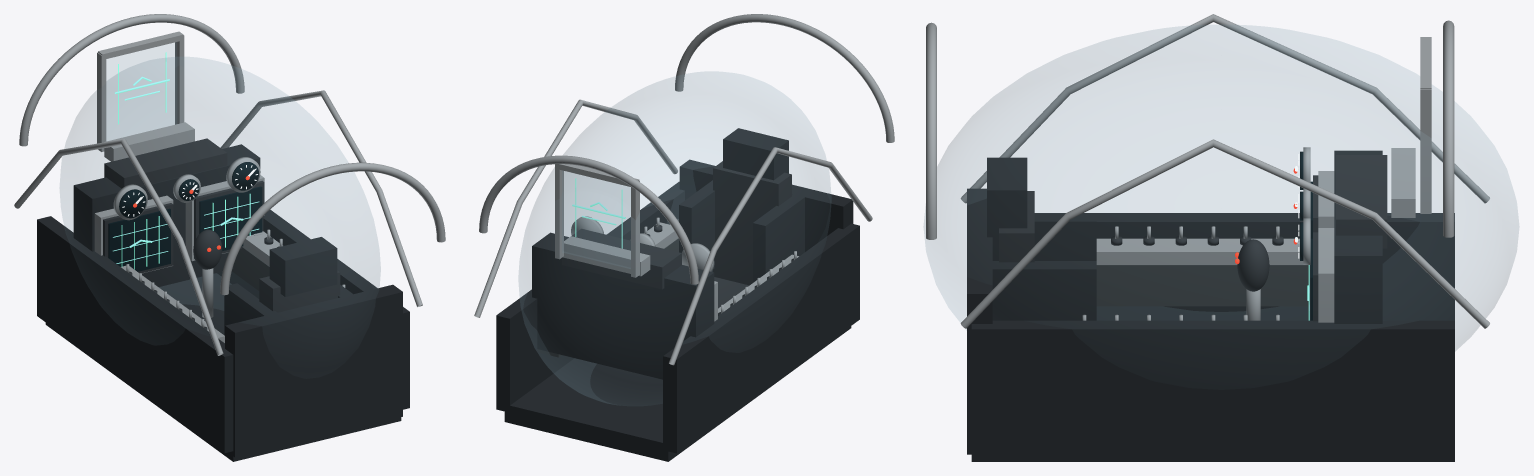
File: cockpit.glb
3 views of the same model, side by side, from view 1: azimuth 30°, elevation 25°; view 2: azimuth 150°, elevation 25°; view 3: azimuth 270°, elevation 25° (orthographic). The views are drawn at different scales.
Parts seen in each view (by area): view 1: F15 FULL TRANSPARENT CANOPY, Cockpit Rear Bulkhead, Connected Cockpit Side Wall, HUD Transparent Plate, Integrated Main Instrument Panel, Upper Instrument Housing, Ejection Seat Headrest, LEFT MULTIFUNCTION DISPLAY Glass, Canopy Structural Rim, Canopy Structural Rim.001, F15 Cockpit Tub Floor, Connected Cockpit Side Wall.001 (+20 smaller); view 2: F15 FULL TRANSPARENT CANOPY, Connected Cockpit Side Wall, Integrated Main Instrument Panel, F15 Cockpit Tub Floor, Connected Cockpit Side Wall.001, HUD Transparent Plate, Ejection Seat Back, Seat Side Support, Cockpit Rear Bulkhead, Canopy Structural Rim.001, Canopy Structural Rim, Ejection Seat Headrest (+12 smaller); view 3: F15 FULL TRANSPARENT CANOPY, Connected Cockpit Side Wall.001, Connected Cockpit Side Wall, Cockpit Side Console, Seat Side Support.001, Canopy Side Rail.001, Canopy Side Rail, Integrated Main Instrument Panel, Side Console Control Surface, F15 Cockpit Tub Floor, Upper Instrument Housing, Cockpit Rear Bulkhead (+11 smaller).
Boxes of the visible parts, box(x1,y1,x2,y2) form: F15 FULL TRANSPARENT CANOPY: box(60, 57, 380, 310); Cockpit Rear Bulkhead: box(225, 284, 402, 457); Connected Cockpit Side Wall: box(37, 216, 233, 453); HUD Transparent Plate: box(106, 42, 176, 140); Integrated Main Instrument Panel: box(73, 144, 260, 286); Upper Instrument Housing: box(104, 138, 227, 188); Ejection Seat Headrest: box(269, 237, 337, 296); LEFT MULTIFUNCTION DISPLAY Glass: box(108, 208, 170, 271); Canopy Structural Rim: box(220, 162, 445, 295); Canopy Structural Rim.001: box(19, 14, 244, 146); F15 Cockpit Tub Floor: box(45, 273, 401, 461); Connected Cockpit Side Wall.001: box(217, 209, 409, 409); F15 FULL TRANSPARENT CANOPY: box(518, 71, 831, 404); Connected Cockpit Side Wall: box(663, 223, 859, 453); Integrated Main Instrument Panel: box(532, 232, 714, 379); F15 Cockpit Tub Floor: box(504, 326, 851, 461); Connected Cockpit Side Wall.001: box(496, 181, 684, 412); HUD Transparent Plate: box(562, 171, 630, 268); Ejection Seat Back: box(713, 161, 791, 285); Seat Side Support: box(753, 189, 810, 282); Cockpit Rear Bulkhead: box(679, 159, 853, 272); Canopy Structural Rim.001: box(479, 155, 698, 284); Canopy Structural Rim: box(675, 14, 894, 142); Ejection Seat Headrest: box(723, 128, 788, 180); F15 FULL TRANSPARENT CANOPY: box(923, 24, 1519, 350); Connected Cockpit Side Wall.001: box(971, 320, 1454, 453); Connected Cockpit Side Wall: box(1035, 213, 1454, 320); Cockpit Side Console: box(1096, 265, 1310, 306); Seat Side Support.001: box(975, 261, 1096, 320); Canopy Side Rail.001: box(960, 139, 1489, 328); Canopy Side Rail: box(960, 14, 1489, 203); Integrated Main Instrument Panel: box(1334, 150, 1382, 323); Side Console Control Surface: box(1096, 238, 1303, 264); F15 Cockpit Tub Floor: box(971, 453, 1454, 461); Upper Instrument Housing: box(1336, 155, 1387, 248); Cockpit Rear Bulkhead: box(967, 188, 992, 454).
Size of the model in its own units: 2.07 by 2.6 by 3.7.
